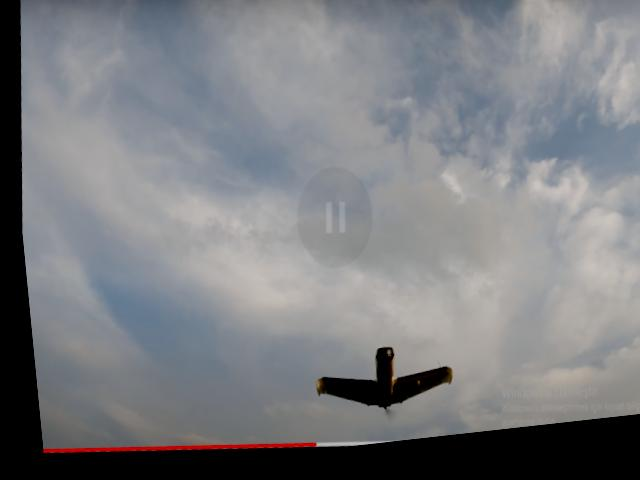plane: (303, 343, 448, 430)
